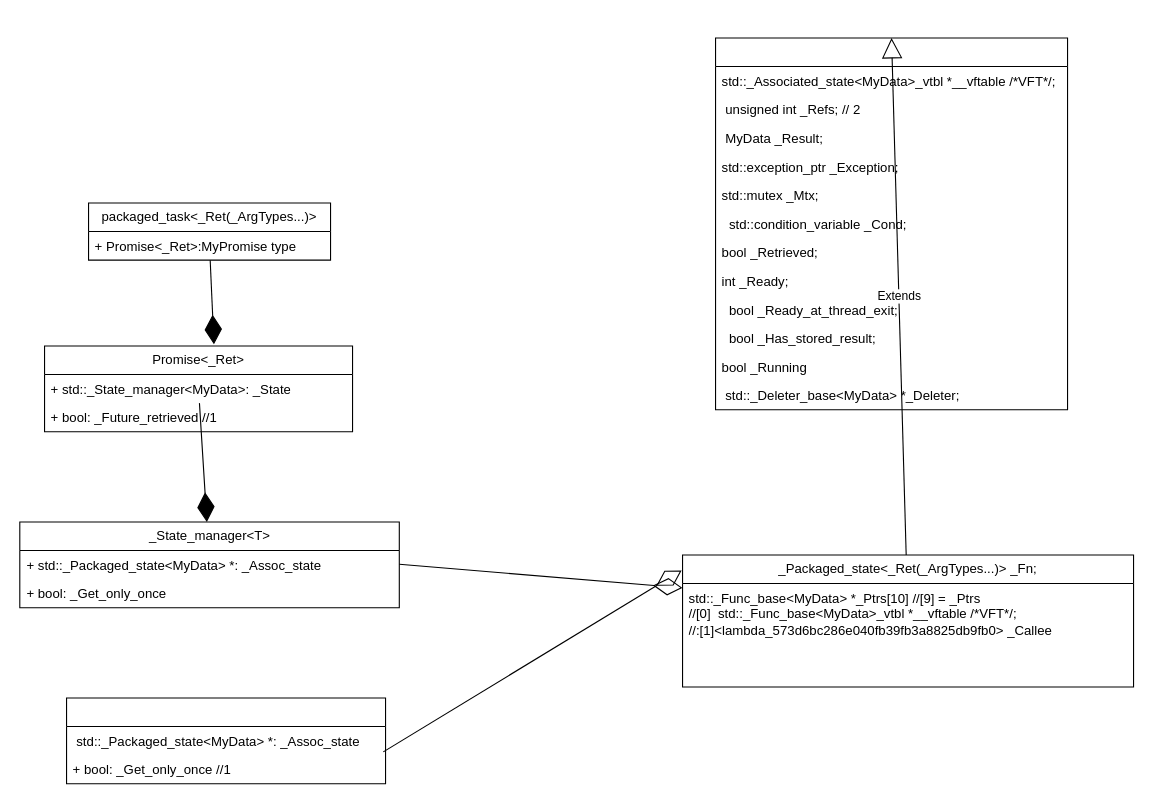
This 1153x806 diagram has some shape labels left out. The shapes that lost their labels are listed below. From the top down, each one's box as (x1, y1, x2, y2) in pixels, then its label:
(714, 37, 1068, 410): _Associated_state<T>
(65, 697, 386, 784): std::future<MyData>
